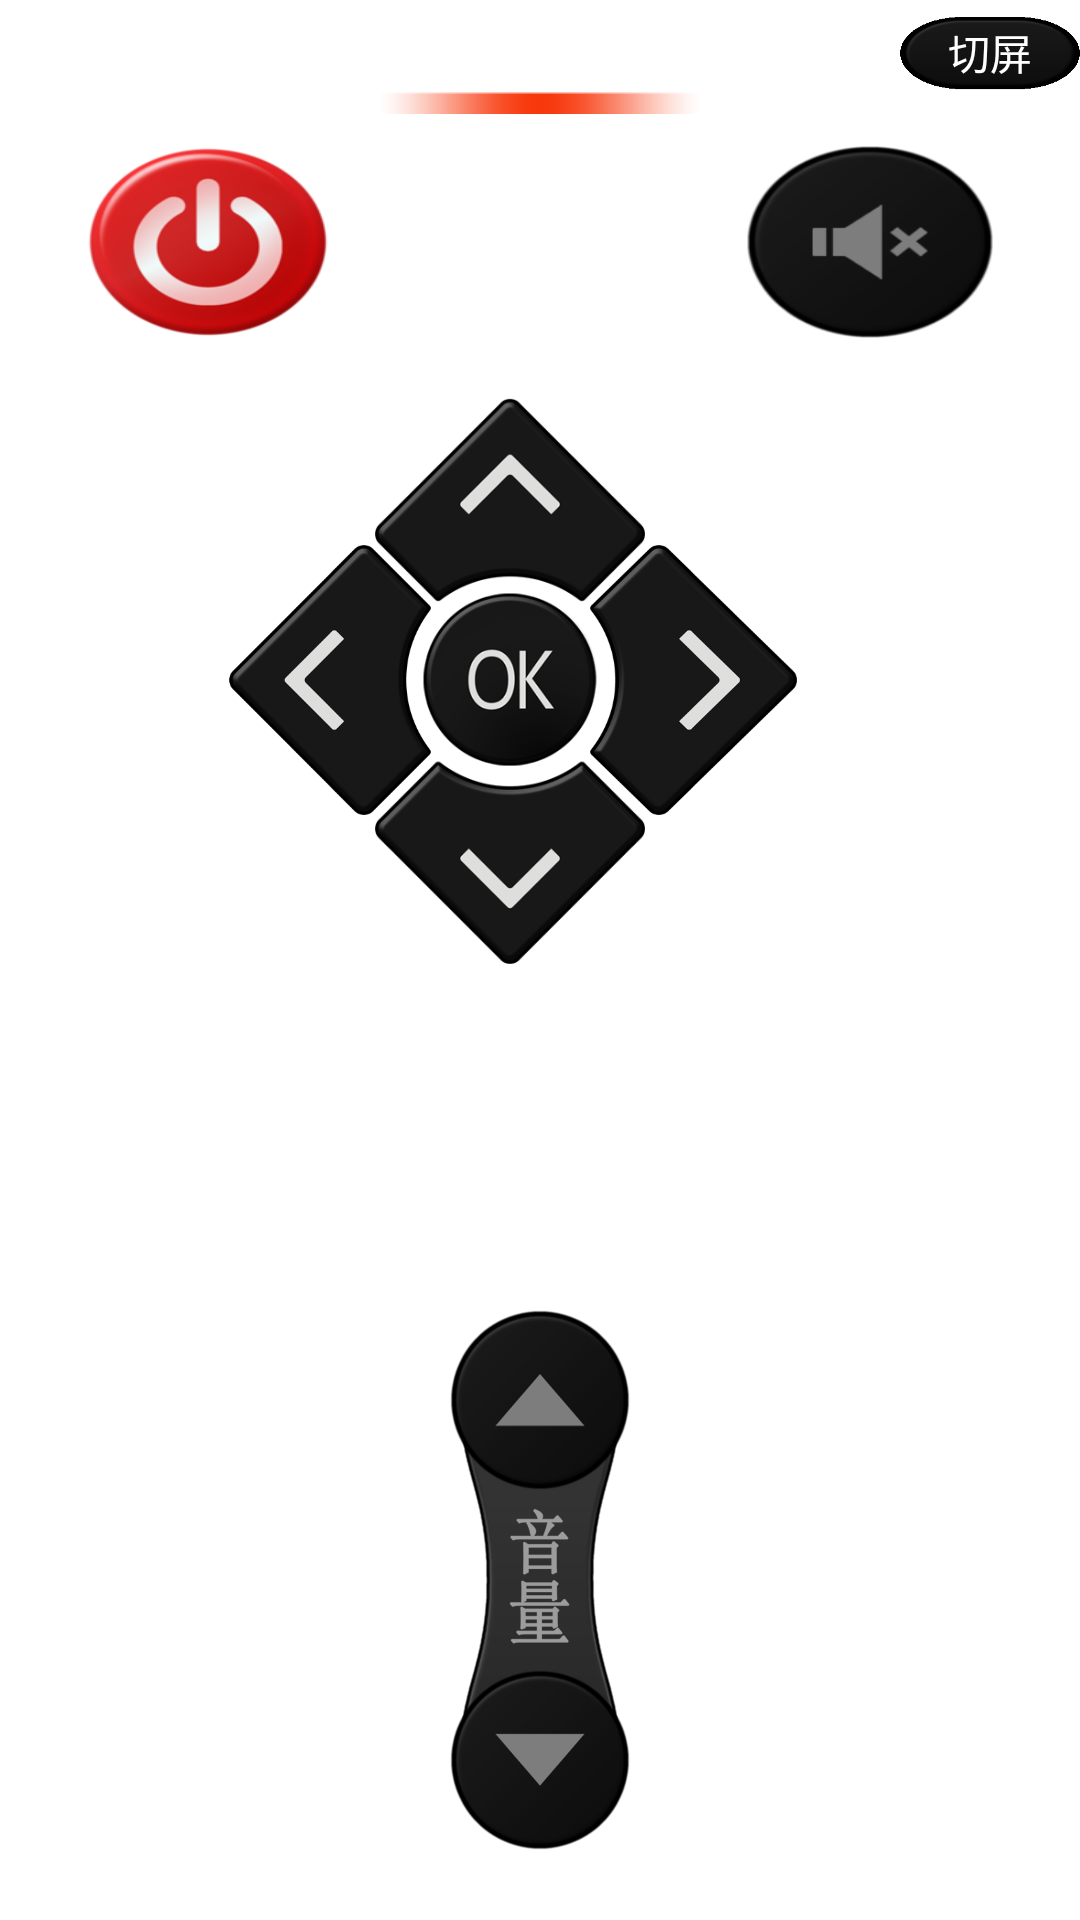

Named icons in this screenshot (1080×1920) and their centers, (x=x, y=y):
down: (x=510, y=862), (x=540, y=1759)
left: (x=330, y=680)
right: (x=693, y=680)
